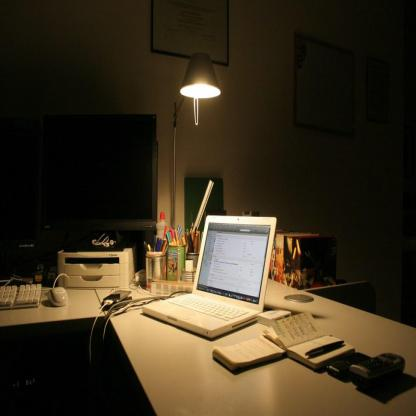board: (141, 216, 277, 339)
